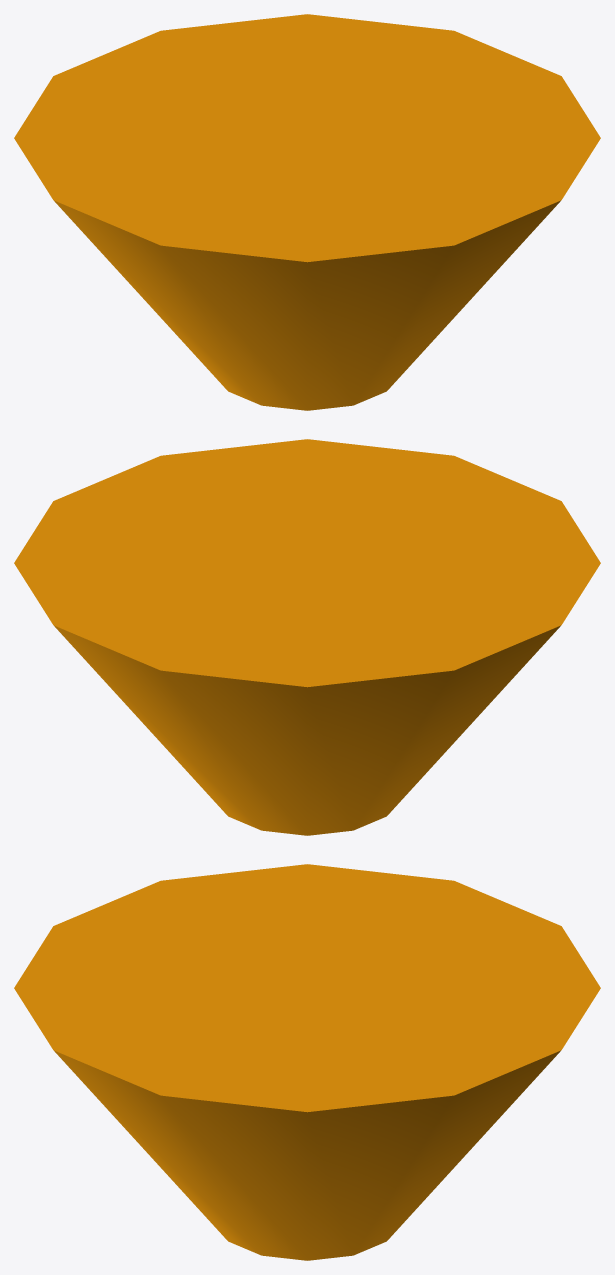
File: Cup-ThinCup_Liquid.fbx
The picture shows the model from 3 angles, top to bottom: view 1: azimuth 30°, elevation 25°; view 2: azimuth 150°, elevation 25°; view 3: azimuth 270°, elevation 25°; orthographic projection.
Parts seen in each view (by area): view 1: Cup-ThinCup_Liquid; view 2: Cup-ThinCup_Liquid; view 3: Cup-ThinCup_Liquid.
Boxes of the visible parts, left/top/right/bottom form: Cup-ThinCup_Liquid: left=14, top=14, right=600, bottom=410; Cup-ThinCup_Liquid: left=14, top=439, right=600, bottom=835; Cup-ThinCup_Liquid: left=14, top=864, right=600, bottom=1260.
Size of the model in its own units: 292 by 143 by 292.
